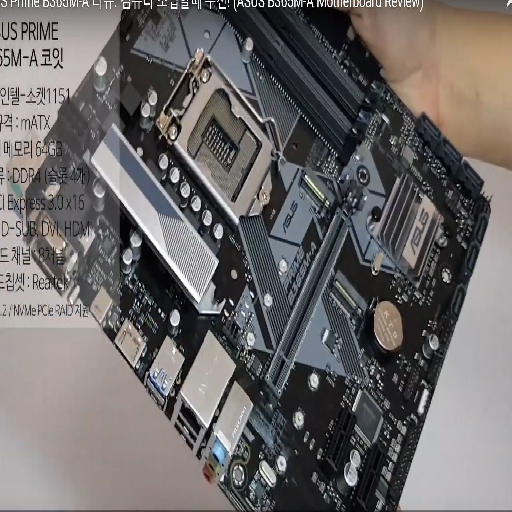CPU: (155, 48, 273, 226)
GPU: (262, 178, 369, 400)
MOTHERBOARD: (21, 1, 492, 510)
RAM: (208, 1, 387, 167)
SSD: (330, 268, 365, 322), (296, 168, 334, 211)
